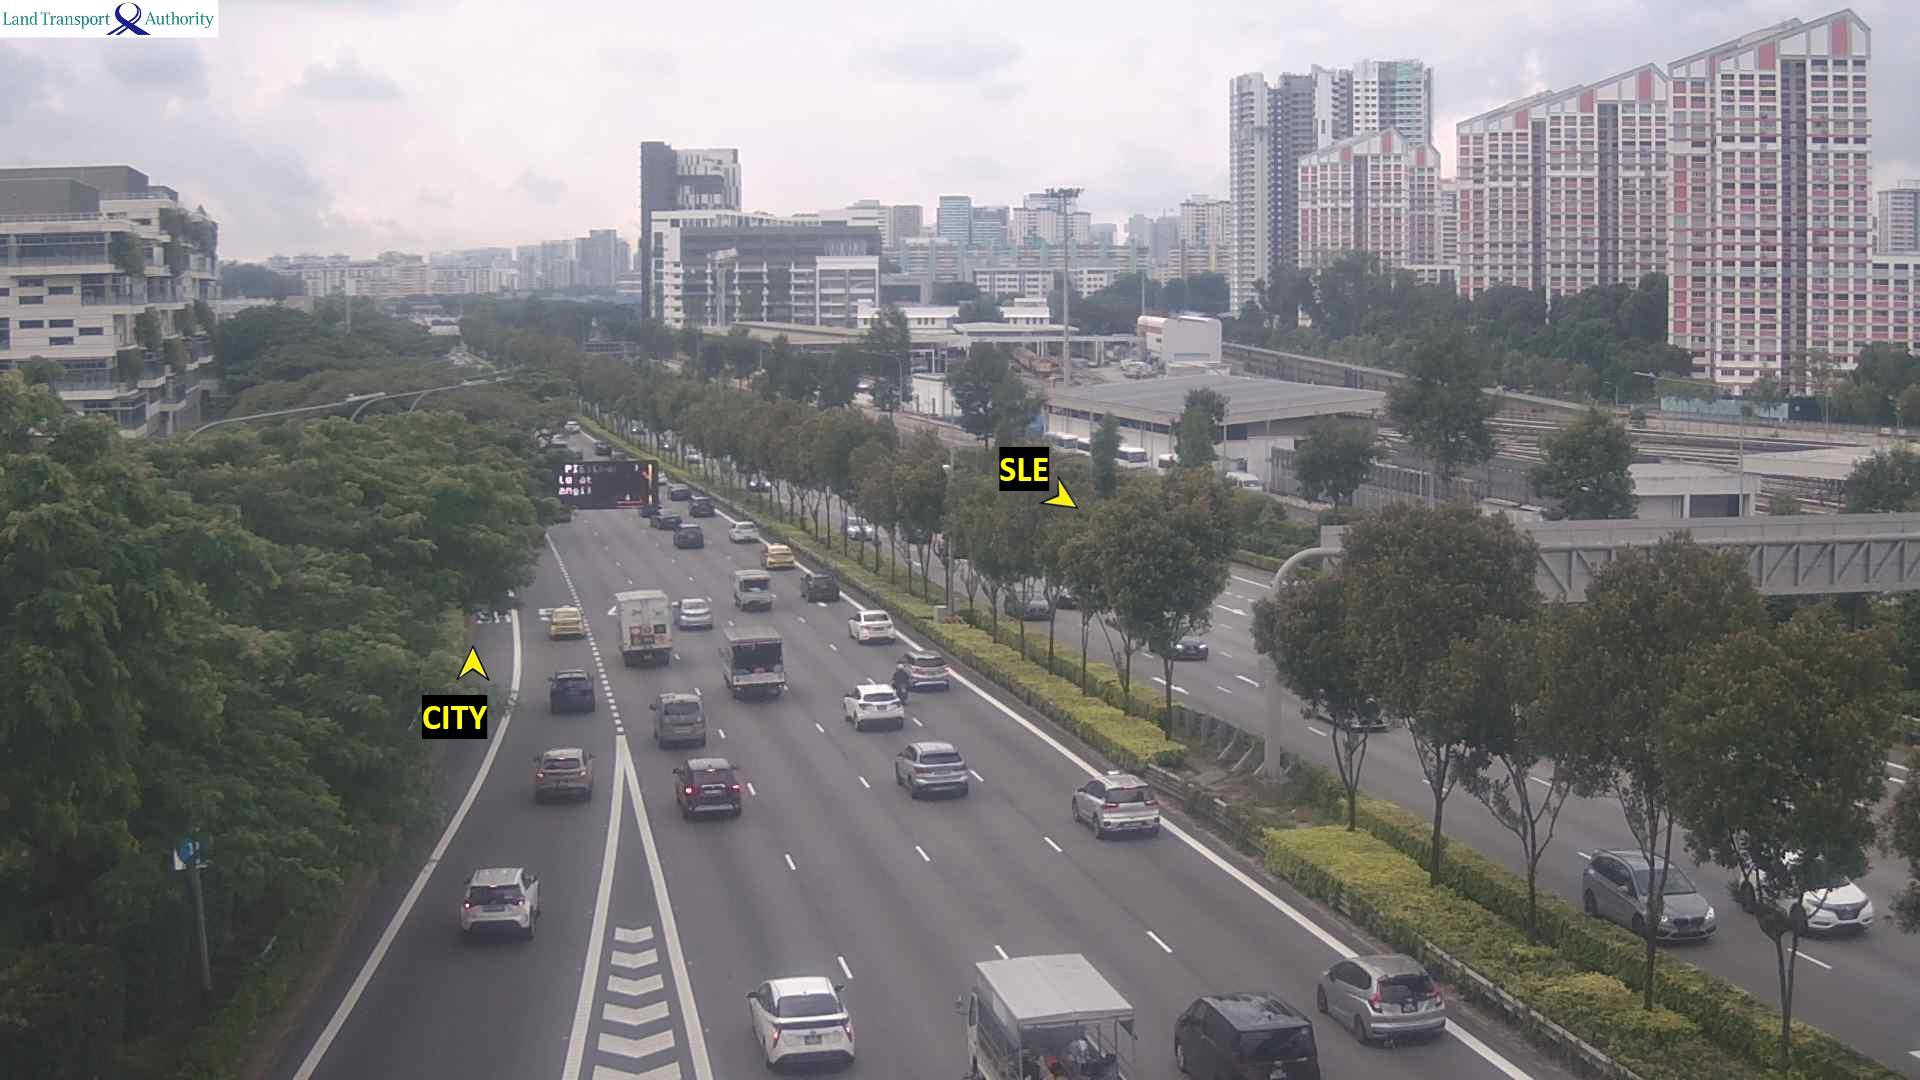cars: (1577, 847, 1717, 944), (1172, 990, 1320, 1079), (1727, 851, 1874, 938), (1316, 951, 1447, 1046), (745, 975, 855, 1069), (1290, 657, 1398, 740), (1071, 769, 1160, 840), (458, 865, 541, 939), (671, 756, 742, 819), (894, 738, 968, 799), (531, 746, 595, 802), (647, 688, 705, 748), (840, 679, 905, 731), (894, 650, 949, 692), (546, 667, 593, 713), (731, 568, 774, 611), (847, 607, 894, 644), (798, 570, 839, 603), (547, 604, 585, 638), (1004, 593, 1052, 620), (676, 595, 712, 629), (1167, 636, 1208, 659), (843, 514, 874, 541), (762, 542, 793, 568), (745, 472, 777, 497), (673, 522, 703, 547), (728, 520, 760, 542), (638, 497, 669, 520), (683, 446, 711, 467), (688, 495, 712, 516), (654, 512, 682, 529), (655, 434, 679, 454), (591, 436, 613, 456), (562, 418, 587, 435), (608, 450, 633, 465), (650, 467, 670, 485), (626, 419, 647, 436), (547, 434, 570, 450), (669, 484, 690, 498)
trucks: (956, 949, 1138, 1077), (717, 624, 789, 700), (607, 588, 673, 667)
